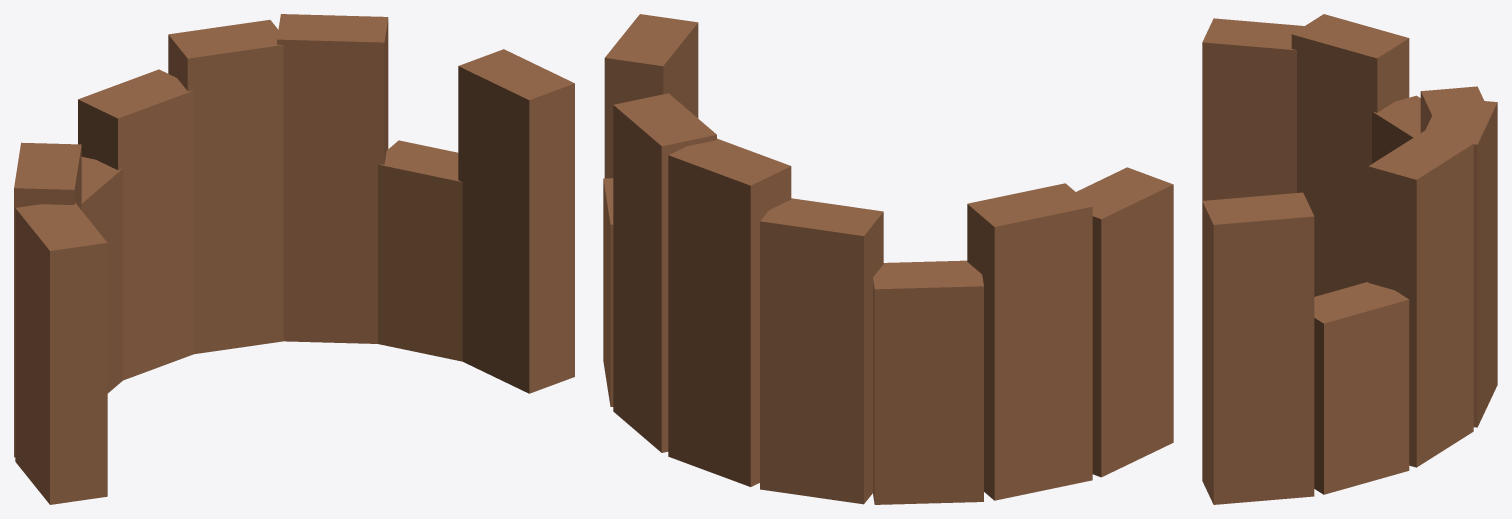
Rendered from cabeceira.glb.
The picture shows the model from 3 angles, left to right: view 1: azimuth 30°, elevation 25°; view 2: azimuth 150°, elevation 25°; view 3: azimuth 270°, elevation 25°; orthographic projection. The views are drawn at different scales.
Visible parts, largest first — view 1: cabeceira; view 2: cabeceira; view 3: cabeceira.
Boxes of the visible parts, box(x1,y1,x2,y2) form: cabeceira: box(14, 14, 574, 504); cabeceira: box(603, 14, 1173, 504); cabeceira: box(1202, 14, 1497, 504).
Size of the model in its own units: 4.99 by 2.74 by 2.55.
